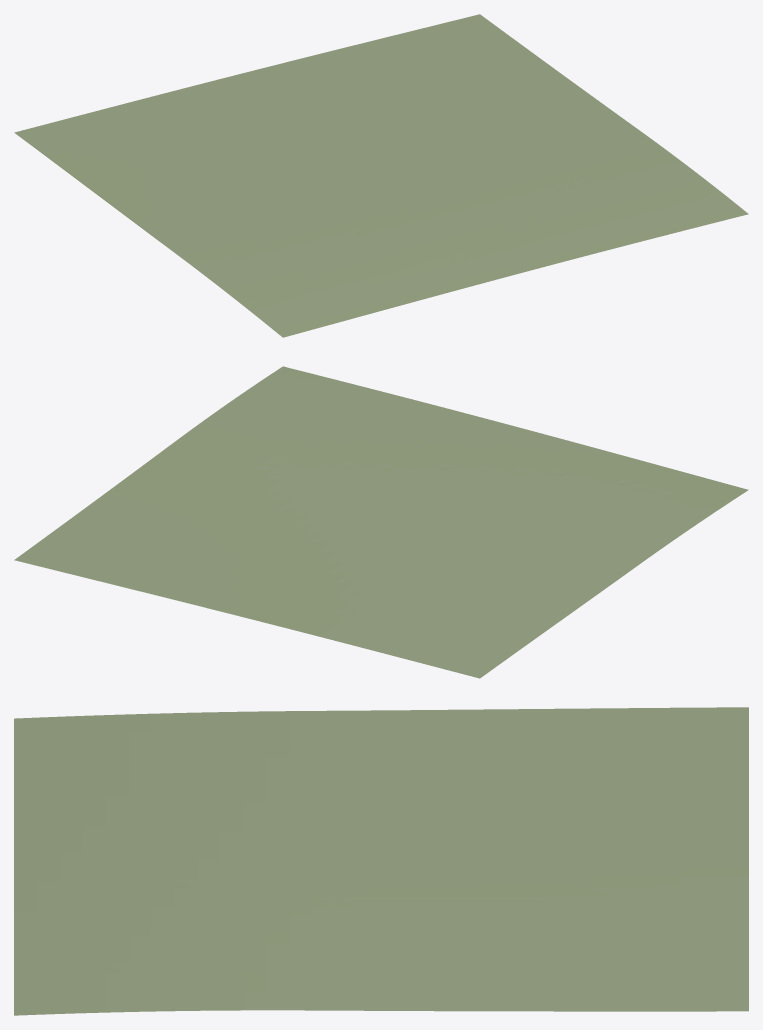
The model's file is desert-27-8.glb.
3 views of the same model, one above another, from view 1: azimuth 30°, elevation 25°; view 2: azimuth 150°, elevation 25°; view 3: azimuth 270°, elevation 25° (orthographic). The views are drawn at different scales.
Parts seen in each view (by area): view 1: desert-27-8; view 2: desert-27-8; view 3: desert-27-8.
Boxes of the visible parts, box(x1,y1,x2,y2) form: desert-27-8: box(14, 14, 748, 337); desert-27-8: box(14, 366, 748, 678); desert-27-8: box(14, 707, 748, 1015).
Bounding box in the file's own units: 512 × 14.43 × 512.
